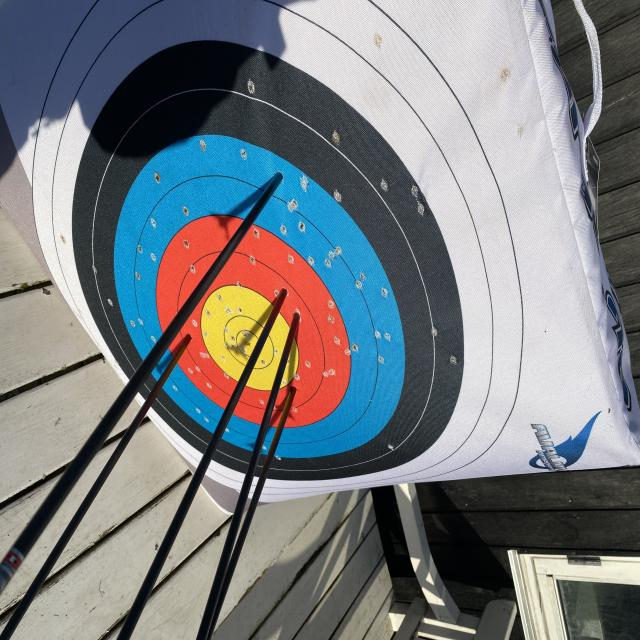Arrow_Blue: (253, 144, 303, 203)
Arrow_Red: (167, 324, 204, 364), (278, 302, 313, 338), (267, 269, 298, 306), (284, 374, 306, 418)
